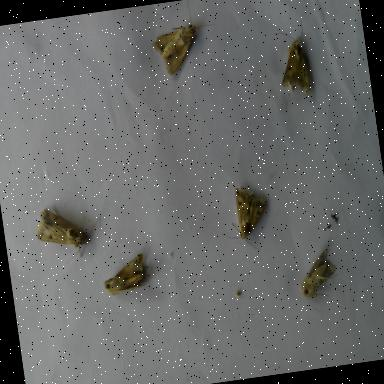abw: (27, 187, 110, 271), (144, 0, 225, 82), (212, 178, 278, 258), (269, 13, 317, 105), (294, 242, 346, 318), (96, 247, 155, 301)
